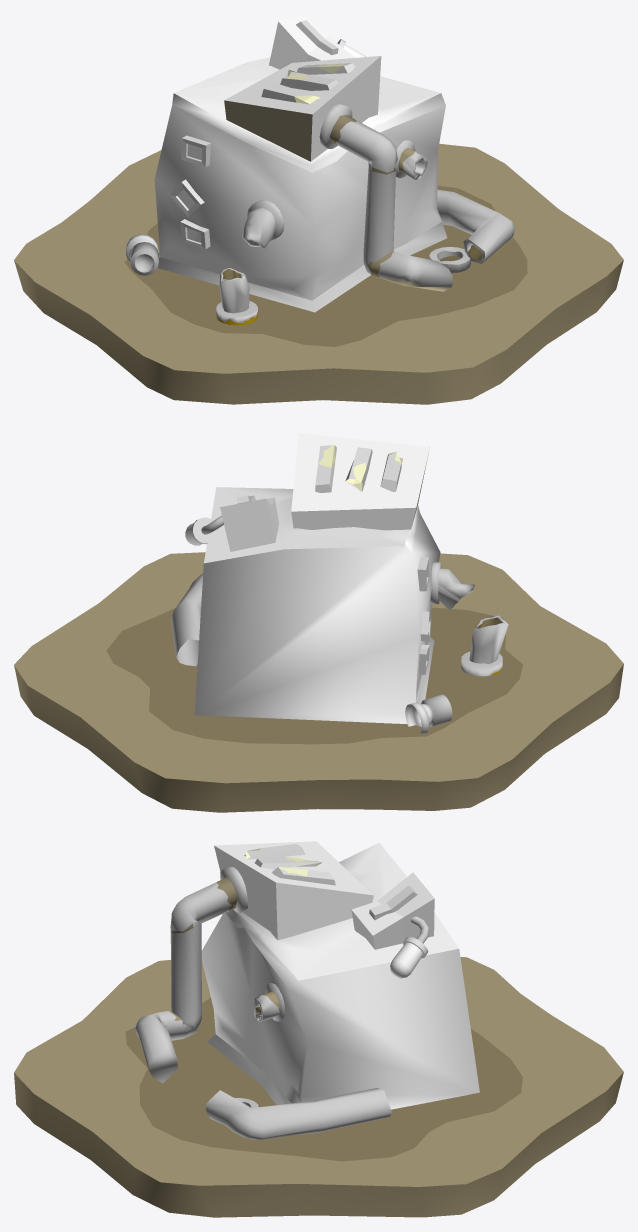
Rendered from Digester_Broken.fbx.
The picture shows the model from 3 angles, top to bottom: view 1: azimuth 30°, elevation 25°; view 2: azimuth 150°, elevation 25°; view 3: azimuth 270°, elevation 25°; orthographic projection.
Parts seen in each view (by area): view 1: BrokenDigester; view 2: BrokenDigester; view 3: BrokenDigester.
Boxes of the visible parts, box(x1,y1,x2,y2) form: BrokenDigester: box(14, 14, 623, 404); BrokenDigester: box(14, 433, 623, 812); BrokenDigester: box(14, 841, 623, 1217).
Size of the model in its own units: 0.9199 by 0.4457 by 1.02.
